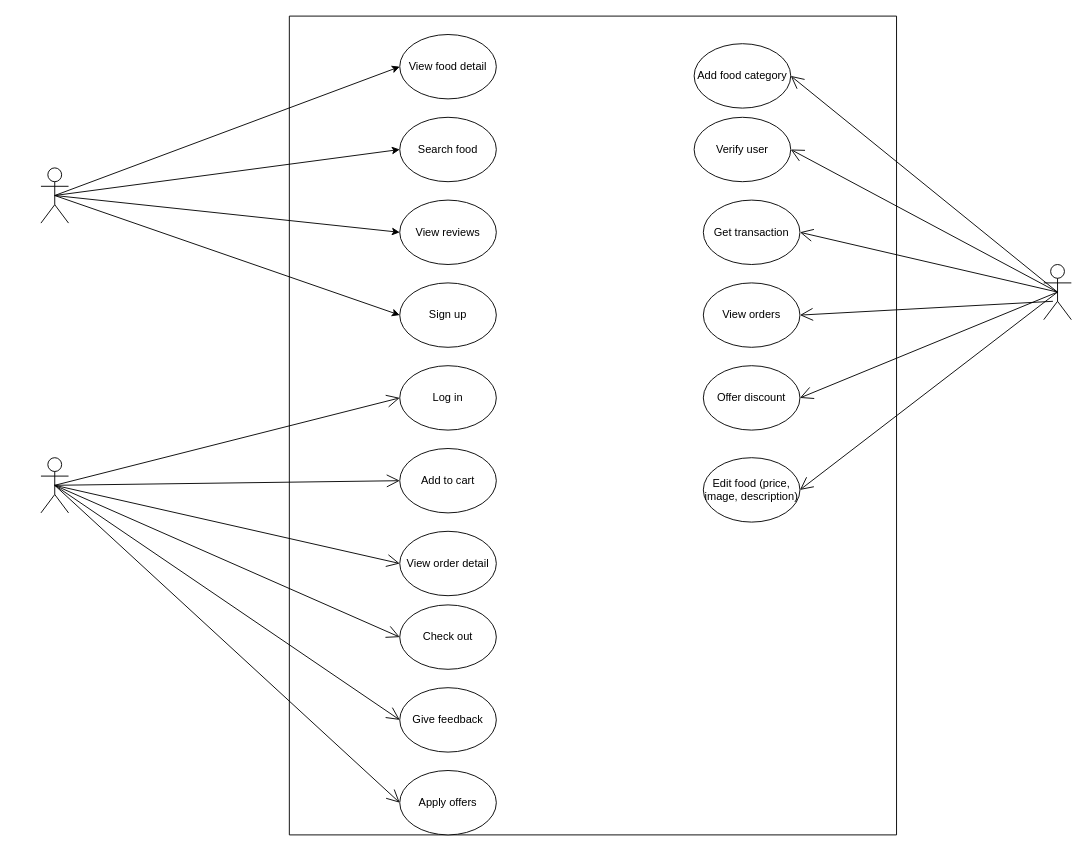
Image size: 1089x851. Some labels were removed from this diagram. The box of each missing label's shape, as (x1, y1, x2, y2) in pixels:
Admin: (1043, 264, 1071, 320)
User (member): (40, 457, 69, 513)
User (shopping): (40, 167, 69, 223)
